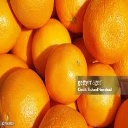orange: (43, 41, 89, 106)
